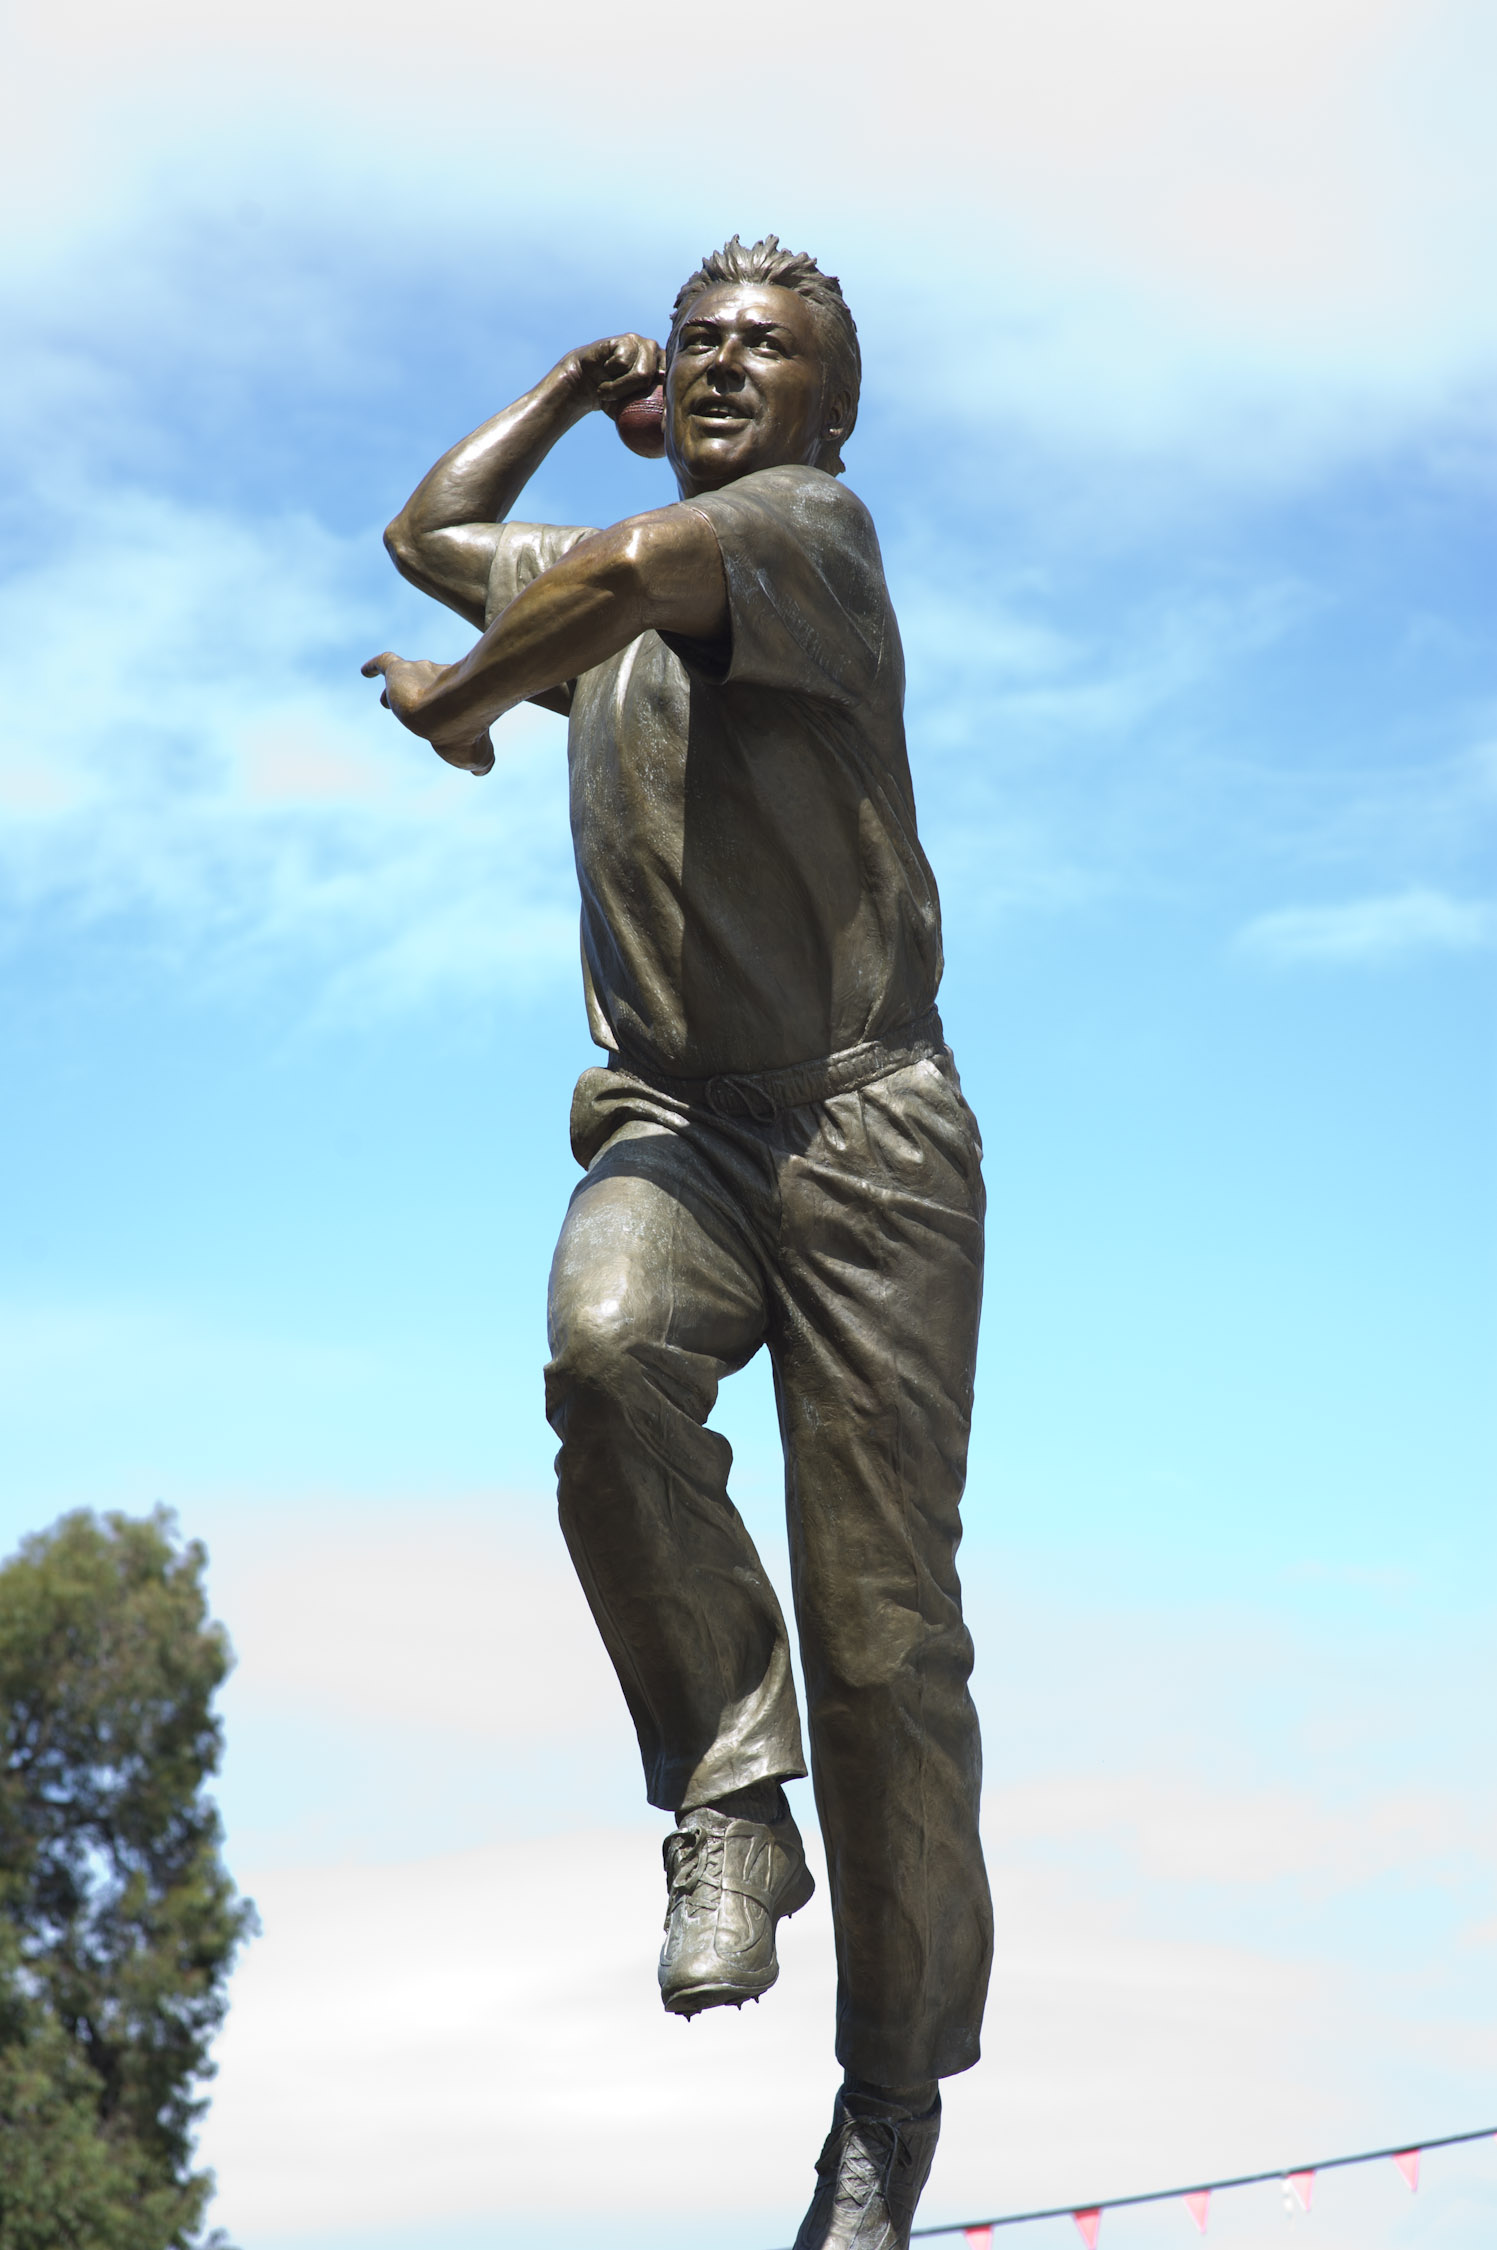person-like: (339, 210, 1027, 2250)
